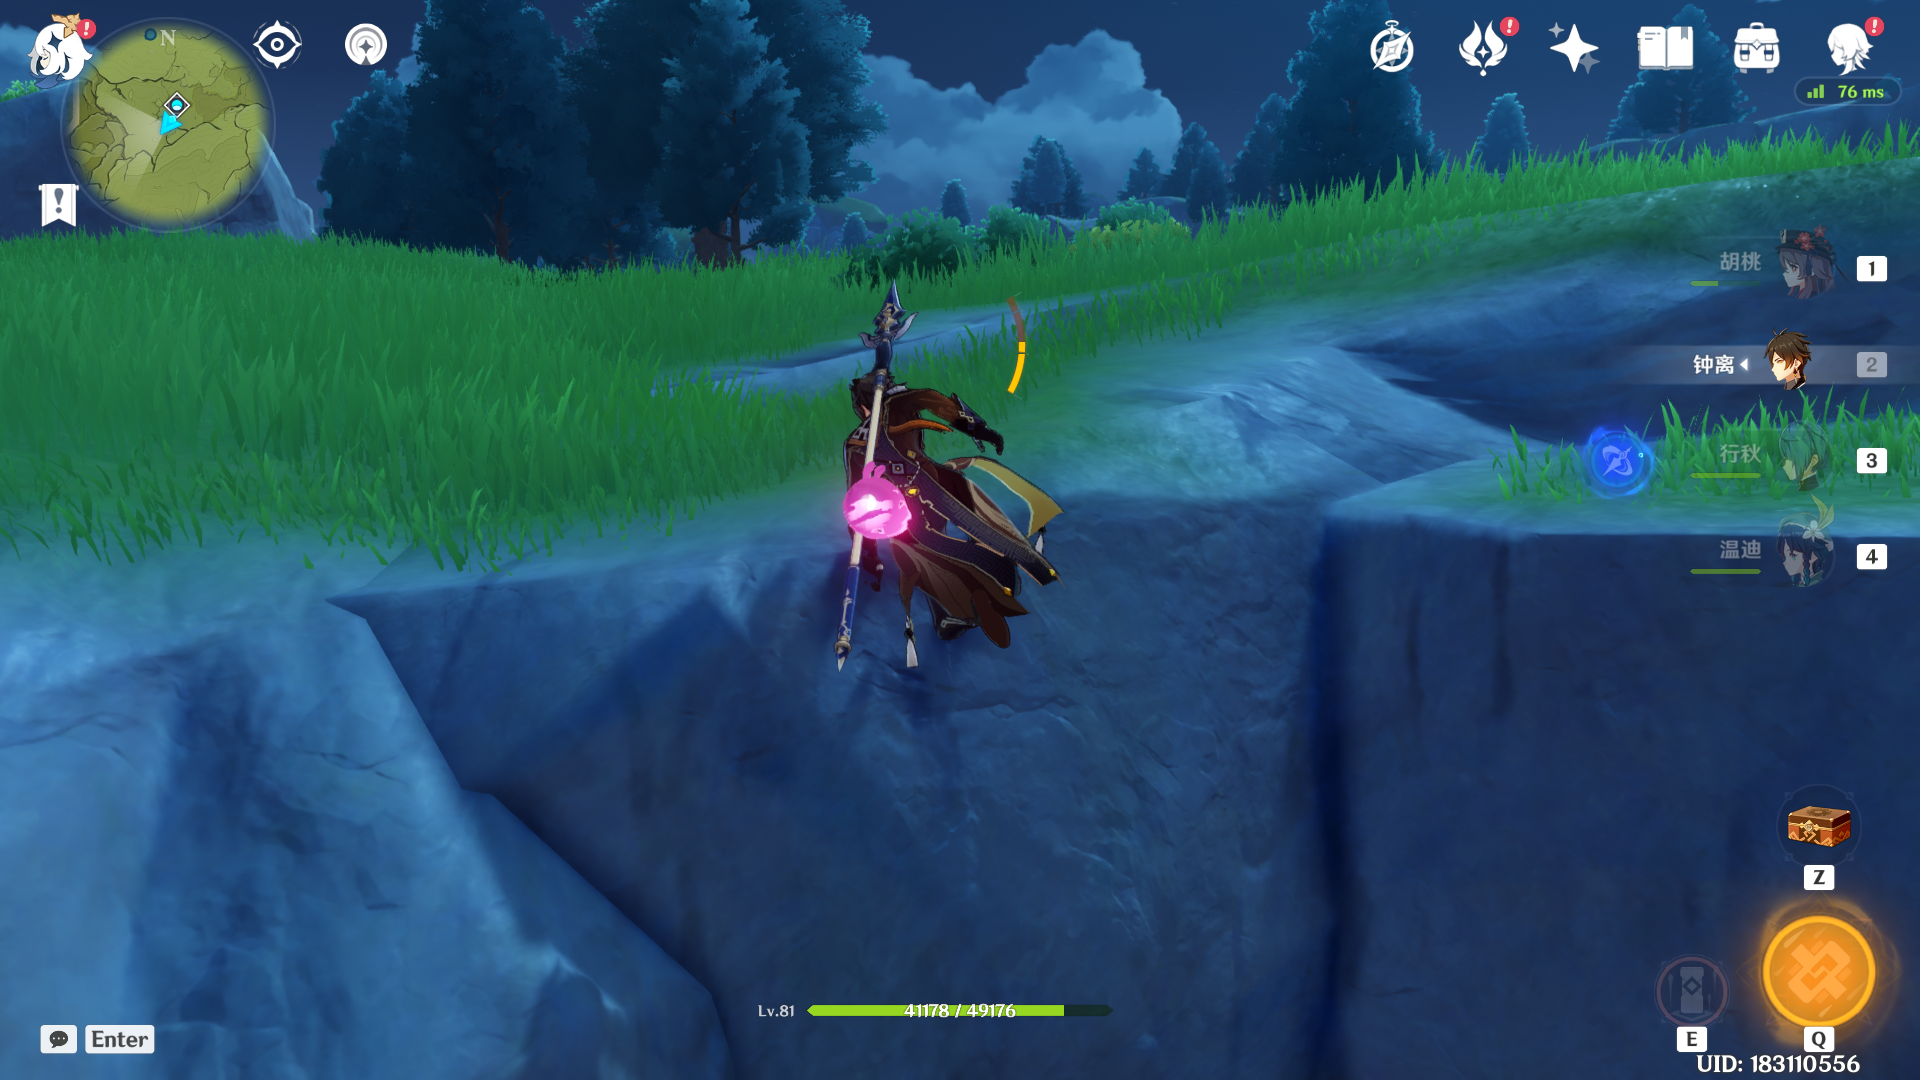character: (770, 363, 1087, 687)
